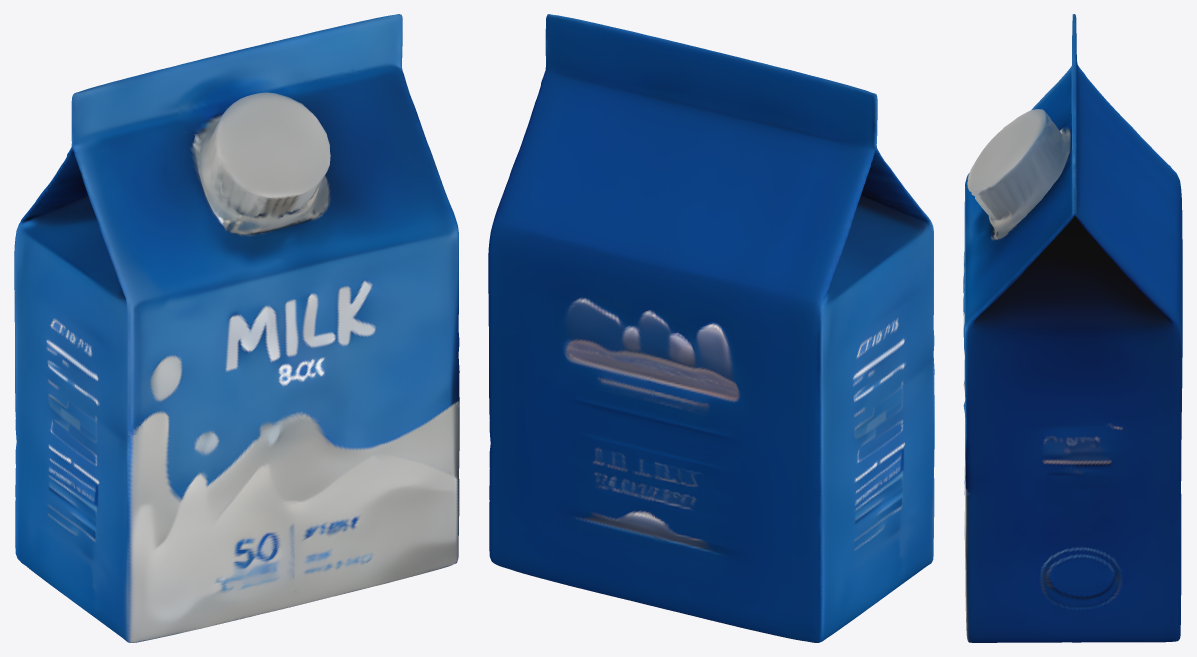
The model's file is MilkCartonbase_basic_shaded.fbx.
3 views of the same model, side by side, from view 1: azimuth 30°, elevation 25°; view 2: azimuth 150°, elevation 25°; view 3: azimuth 270°, elevation 25° (orthographic). The views are drawn at different scales.
Parts seen in each view (by area): view 1: model; view 2: model; view 3: model.
Boxes of the visible parts, x1,y1,x2,y2 form: model: (14,14,459,642); model: (488,14,934,642); model: (963,14,1182,642).
Size of the model in its own units: 125 by 186 by 76.11.
